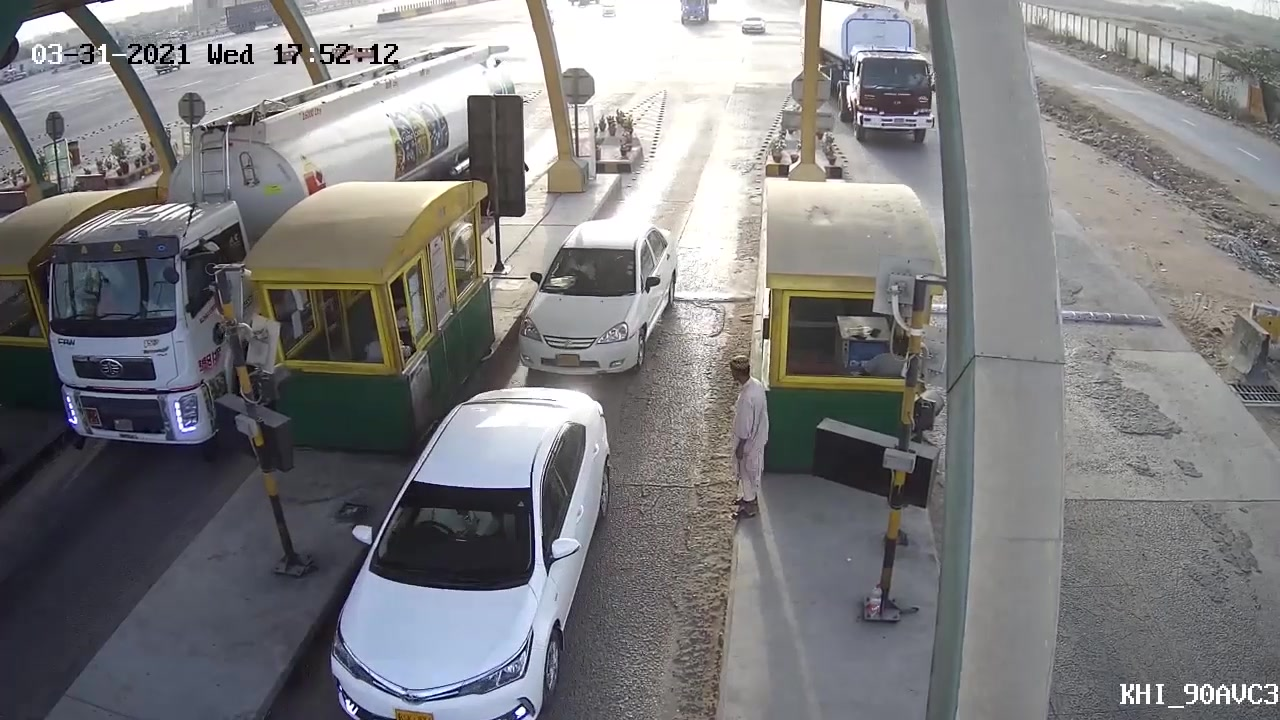F1: (324, 383, 621, 720), (506, 206, 691, 385)
